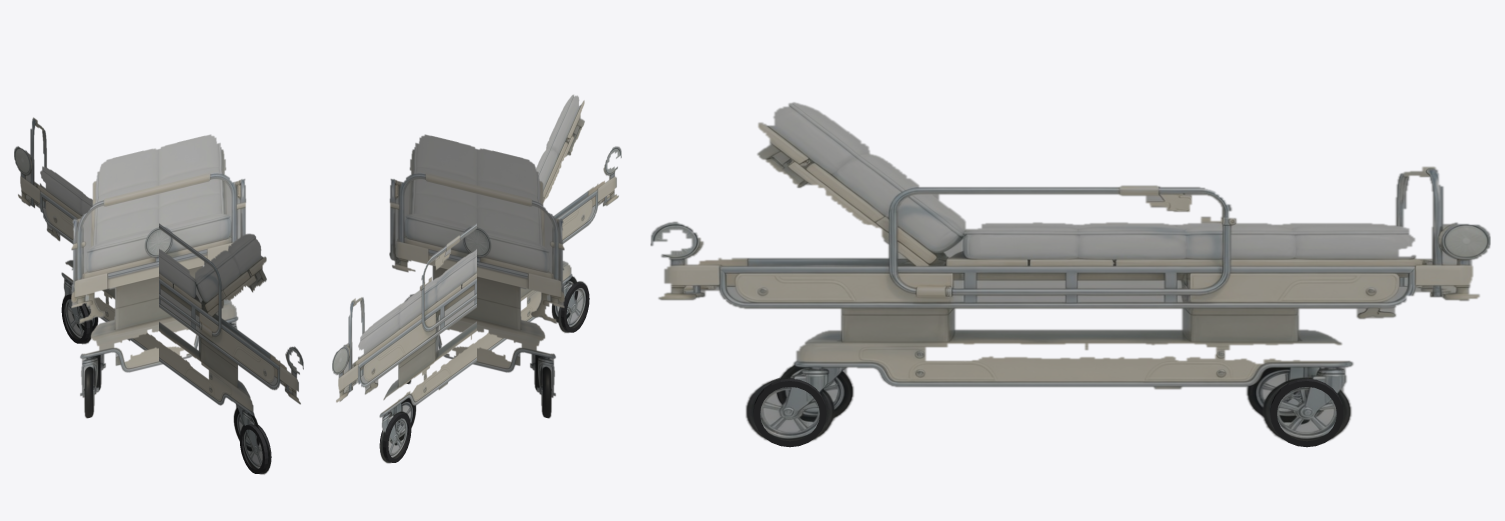
File: hospital_gurney.glb
3 renders of one model, left to right at view 1: azimuth 30°, elevation 25°; view 2: azimuth 150°, elevation 25°; view 3: azimuth 270°, elevation 25°, orthographic. The views are drawn at different scales.
Parts seen in each view (by area): view 1: hospital_gurney, wheel_FC, wheel_BC; view 2: hospital_gurney, wheel_FC, wheel_BC; view 3: hospital_gurney, wheel_BC, wheel_FC.
Part boxes in pixels (box(x1,y1,x2,y2)): hospital_gurney: box(14, 117, 303, 474); wheel_FC: box(61, 294, 89, 343); wheel_BC: box(239, 424, 271, 473); hospital_gurney: box(332, 94, 621, 463); wheel_FC: box(379, 413, 411, 462); wheel_BC: box(561, 283, 589, 332); hospital_gurney: box(650, 102, 1490, 442); wheel_BC: box(753, 377, 826, 447); wheel_FC: box(1270, 378, 1343, 447).
Size of the model in its own units: 0.6981 by 1.07 by 2.
Materials: 2 (1 with a texture image).
